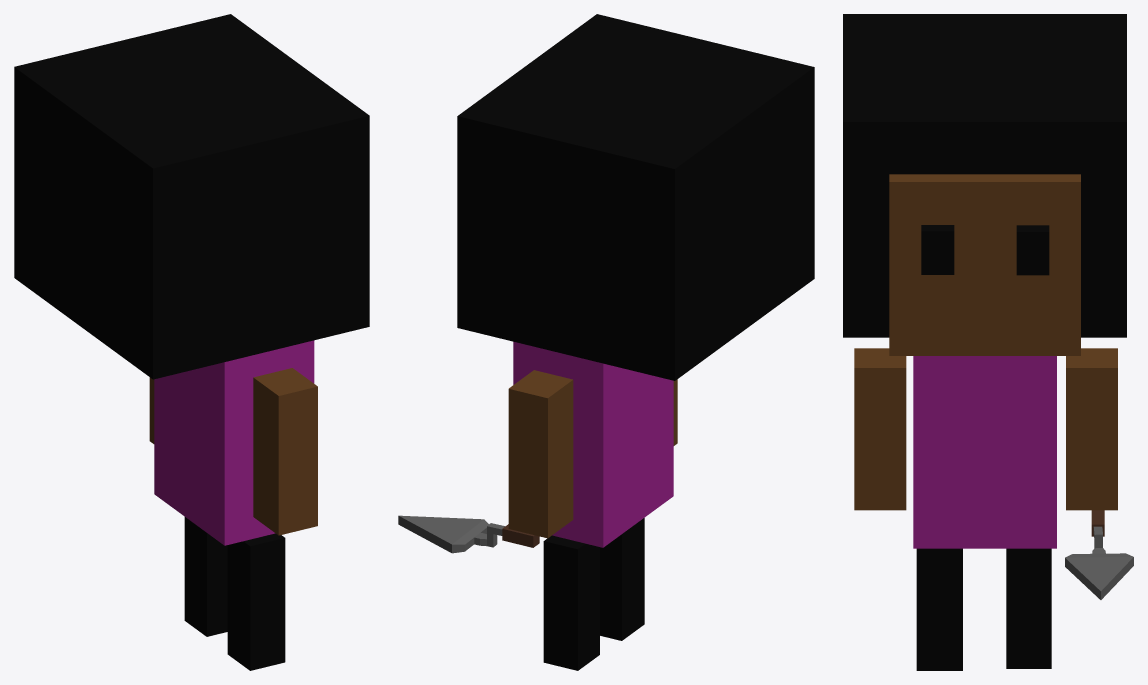
File: Chara-H_maçon.fbx
3 views of the same model, side by side, from view 1: azimuth 30°, elevation 25°; view 2: azimuth 150°, elevation 25°; view 3: azimuth 270°, elevation 25° (orthographic). The views are drawn at different scales.
Visible parts, largest first — view 1: Cube.082; view 2: Cube.082; view 3: Cube.082.
Boxes of the visible parts, box(x1,y1,x2,y2) form: Cube.082: box(14, 14, 369, 670); Cube.082: box(398, 14, 814, 670); Cube.082: box(843, 14, 1133, 670).
Size of the model in its own units: 99.24 by 185 by 84.88.
